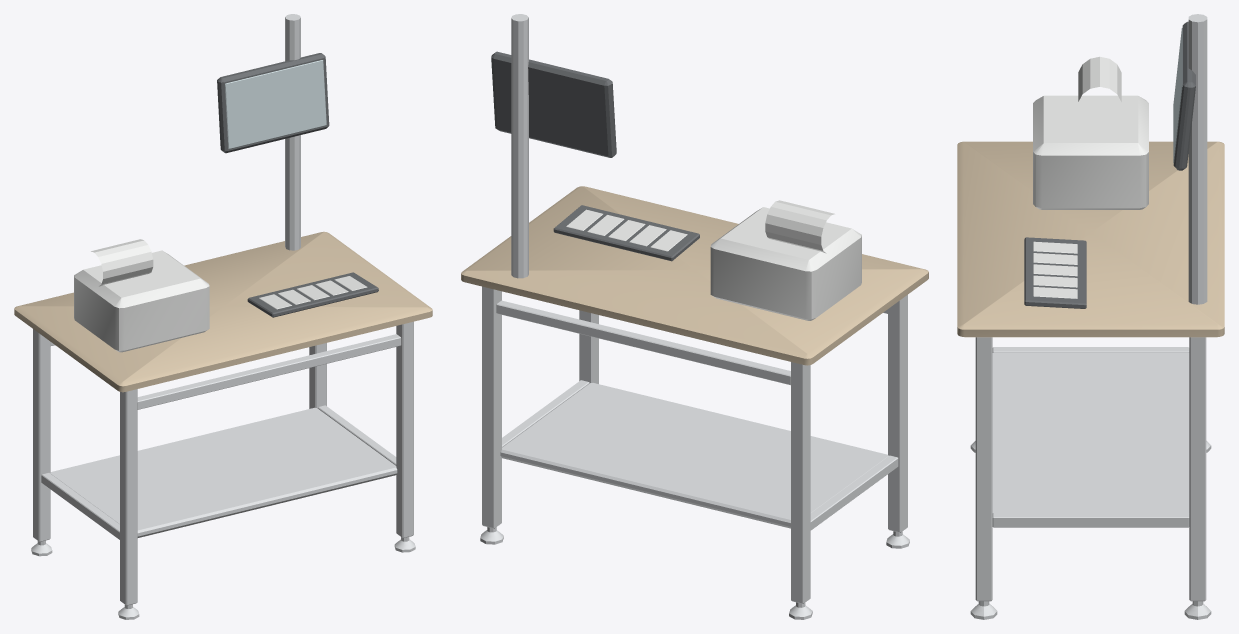
The model's file is clinic-and-veterinary-practice-label-printer-bench-37034691__16784.glb.
3 views of the same model, side by side, from view 1: azimuth 30°, elevation 25°; view 2: azimuth 150°, elevation 25°; view 3: azimuth 270°, elevation 25° (orthographic). The views are drawn at different scales.
Parts seen in each view (by area): view 1: label-printer-bench; view 2: label-printer-bench; view 3: label-printer-bench.
Boxes of the visible parts, box(x1,y1,x2,y2) form: label-printer-bench: box(14, 14, 432, 619); label-printer-bench: box(461, 14, 928, 619); label-printer-bench: box(957, 14, 1224, 619).
Size of the model in its own units: 1 by 1.44 by 0.6001.
